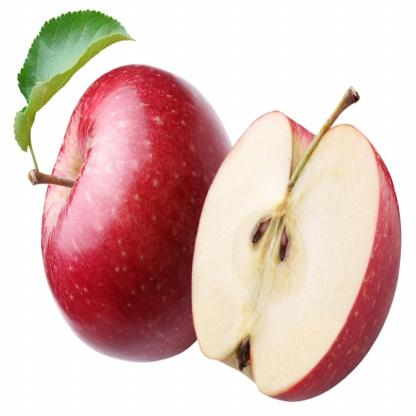apple: (28, 52, 242, 381)
